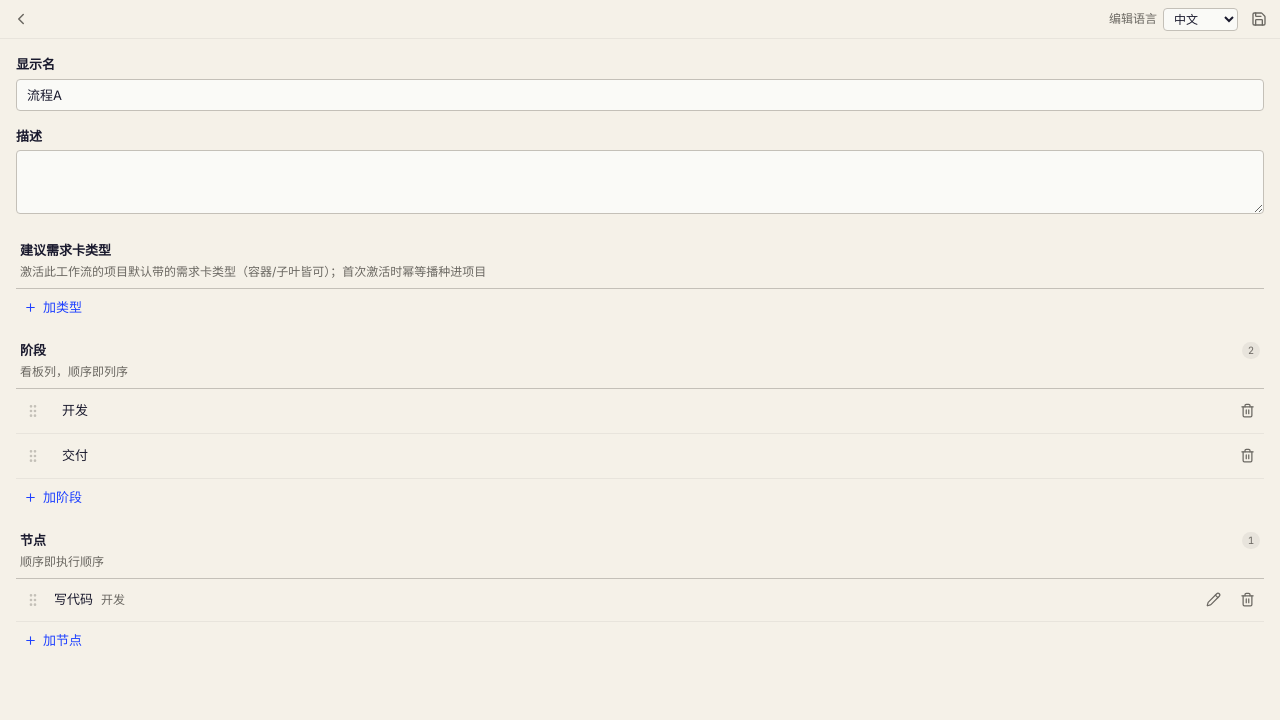
Test case: WorkflowEditor 表单编辑 › 切换执行者类型展示对应驱动指令字段
This screenshot has width=1280, height=720.
Click the button named "编辑节点 写代码" at (1213, 600), box [1200, 586, 1226, 612]
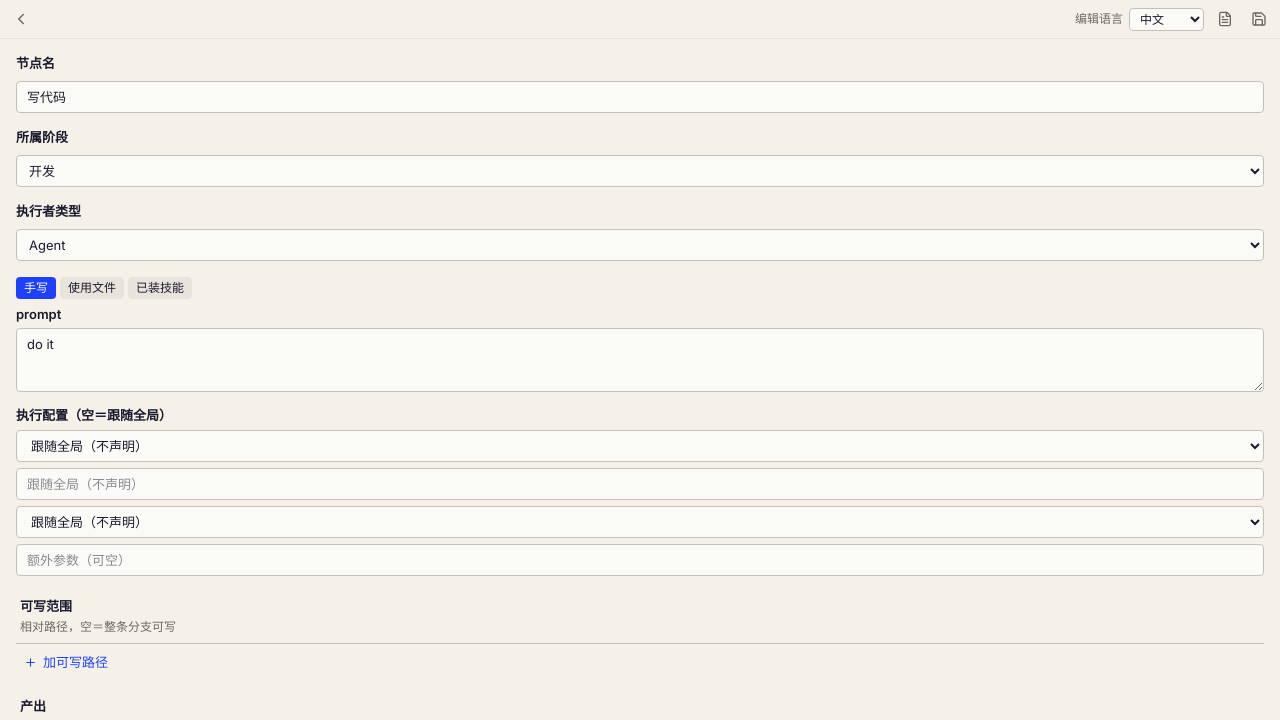
Select "引擎操作" in the dropdown named "执行者类型" at (640, 245), box [16, 229, 1264, 261]
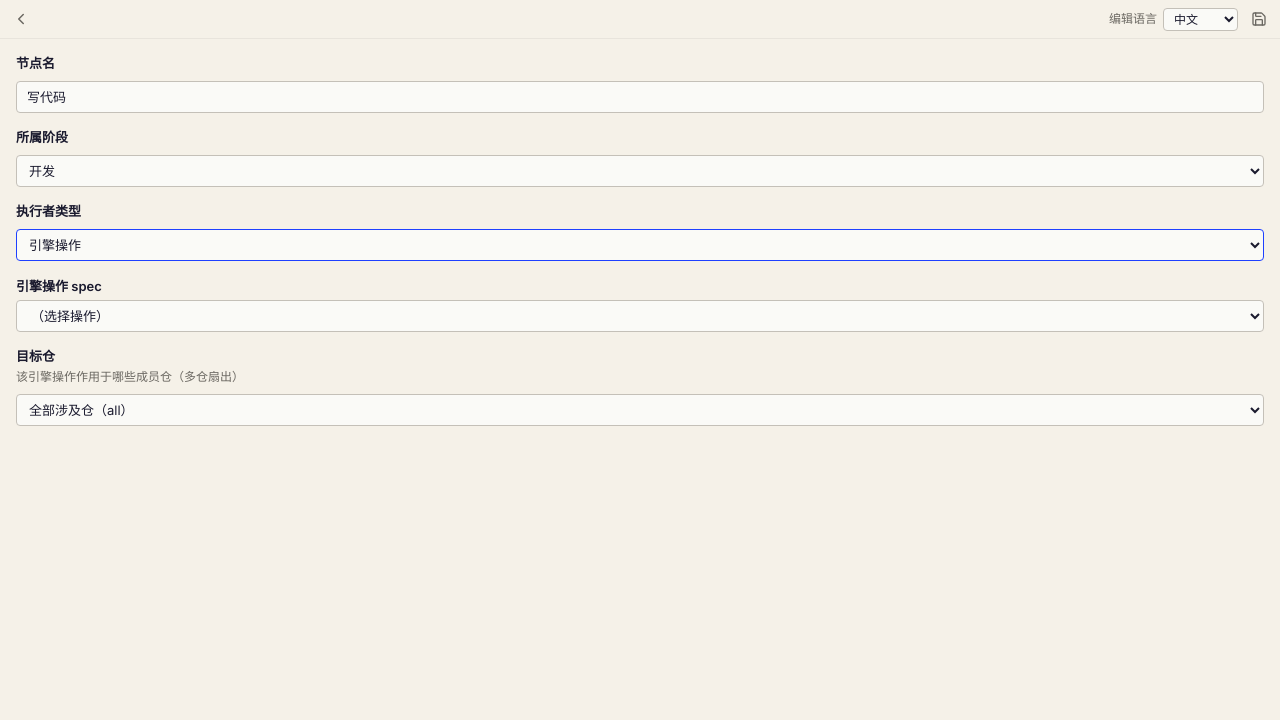
Expected: the text "引擎操作 spec" is shown, [16, 278, 102, 294]
Expected: the text labelled "prompt" is gone
